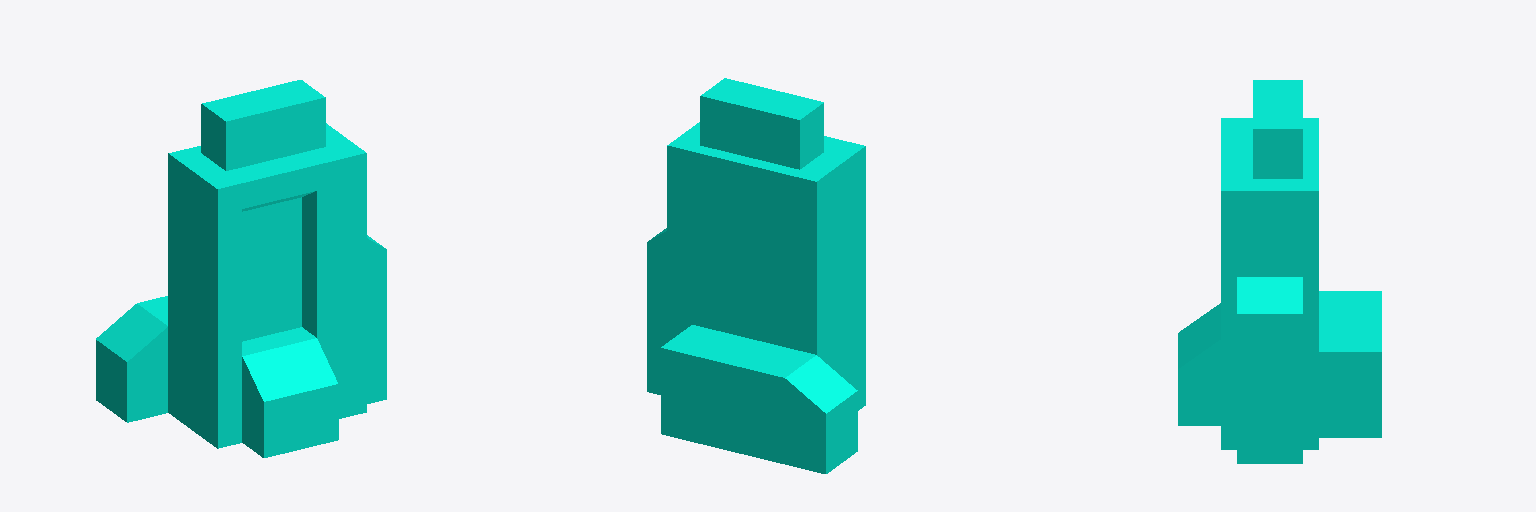
The model's file is building_8.obj.
The picture shows the model from 3 angles: view 1: azimuth 30°, elevation 25°; view 2: azimuth 150°, elevation 25°; view 3: azimuth 270°, elevation 25°; orthographic projection.
Parts seen in each view (by area): view 1: building_9; view 2: building_9; view 3: building_9.
Part boxes in pixels (bbox=[...]): building_9: bbox=[96, 80, 386, 457]; building_9: bbox=[647, 78, 865, 473]; building_9: bbox=[1178, 80, 1381, 463].
Size of the model in its own units: 10.64 by 14.38 by 8.62.